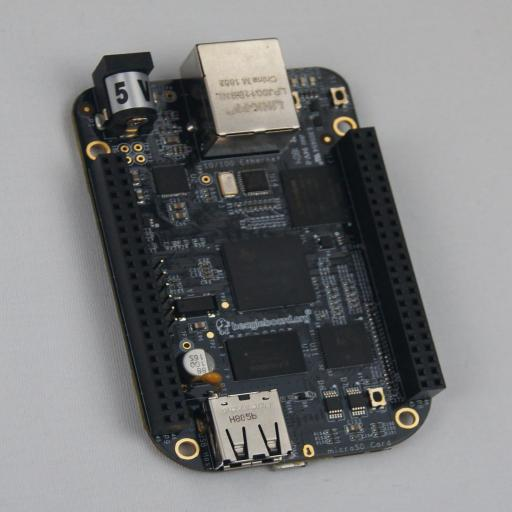Beaglebone Black: (71, 38, 446, 473)
